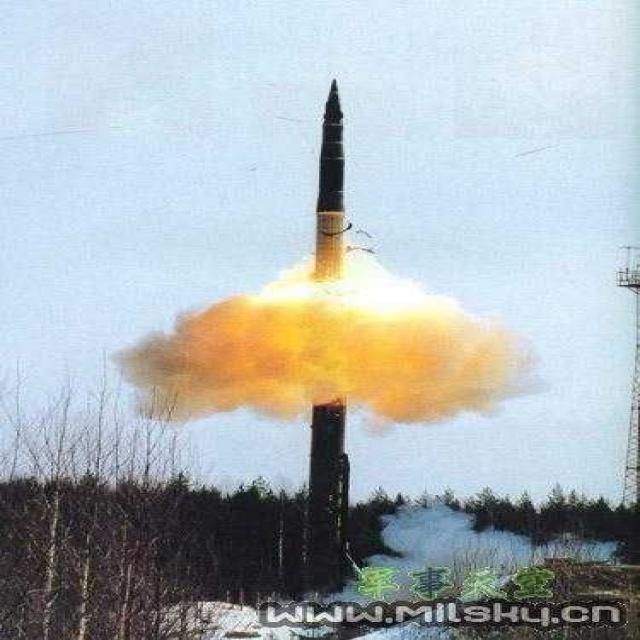missile: (302, 78, 367, 579)
